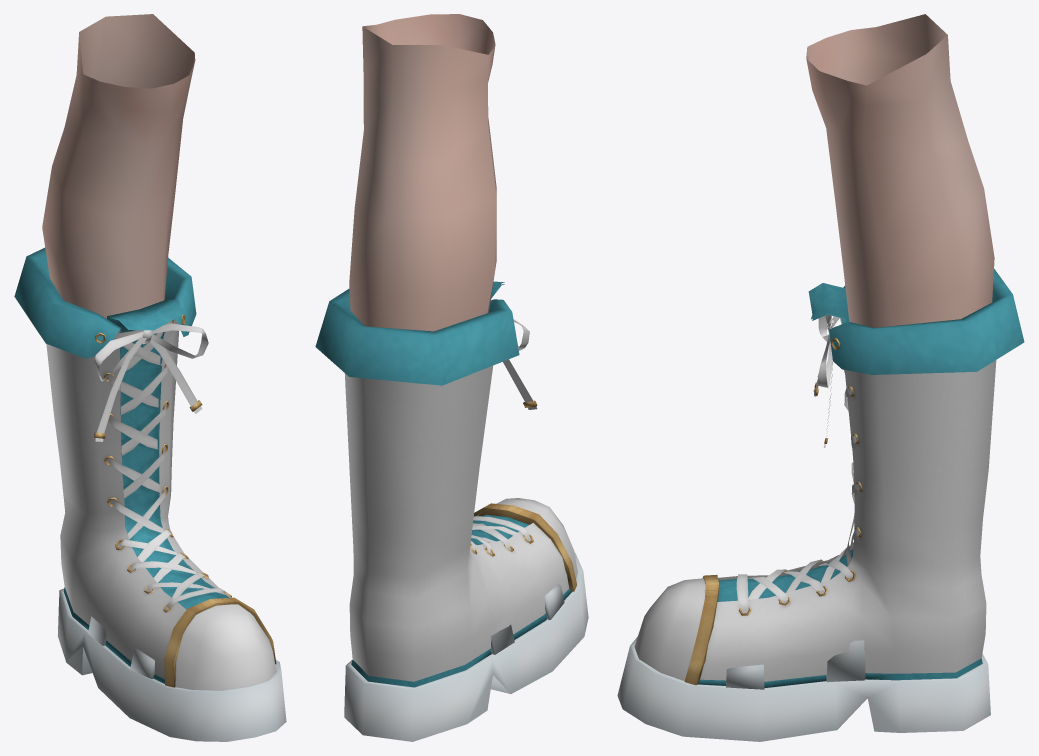
Rendered from KOSHIRO_Pie_2.obj.
The picture shows the model from 3 angles, left to right: view 1: azimuth 30°, elevation 25°; view 2: azimuth 150°, elevation 25°; view 3: azimuth 270°, elevation 25°; orthographic projection. The views are drawn at different scales.
Visible parts, largest first — view 1: Pie_2_face_Plane.008; view 2: Pie_2_face_Plane.008; view 3: Pie_2_face_Plane.008.
Boxes of the visible parts, <box> form: Pie_2_face_Plane.008: <box>14,14,286,741</box>; Pie_2_face_Plane.008: <box>315,14,588,741</box>; Pie_2_face_Plane.008: <box>617,14,1024,741</box>.
Size of the model in its own units: 0.1064 by 0.4353 by 0.2364.
